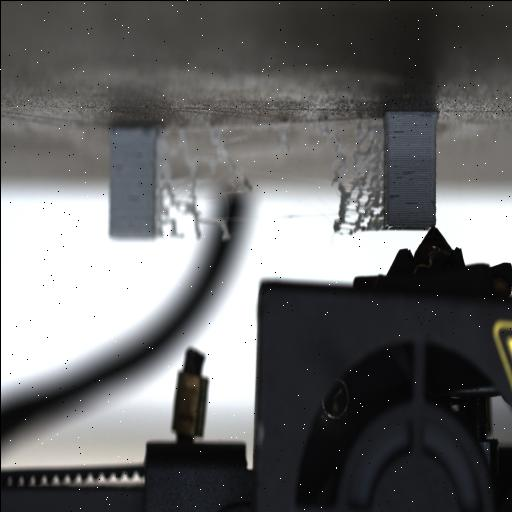stringing: (278, 116, 391, 238), (156, 122, 252, 242)
